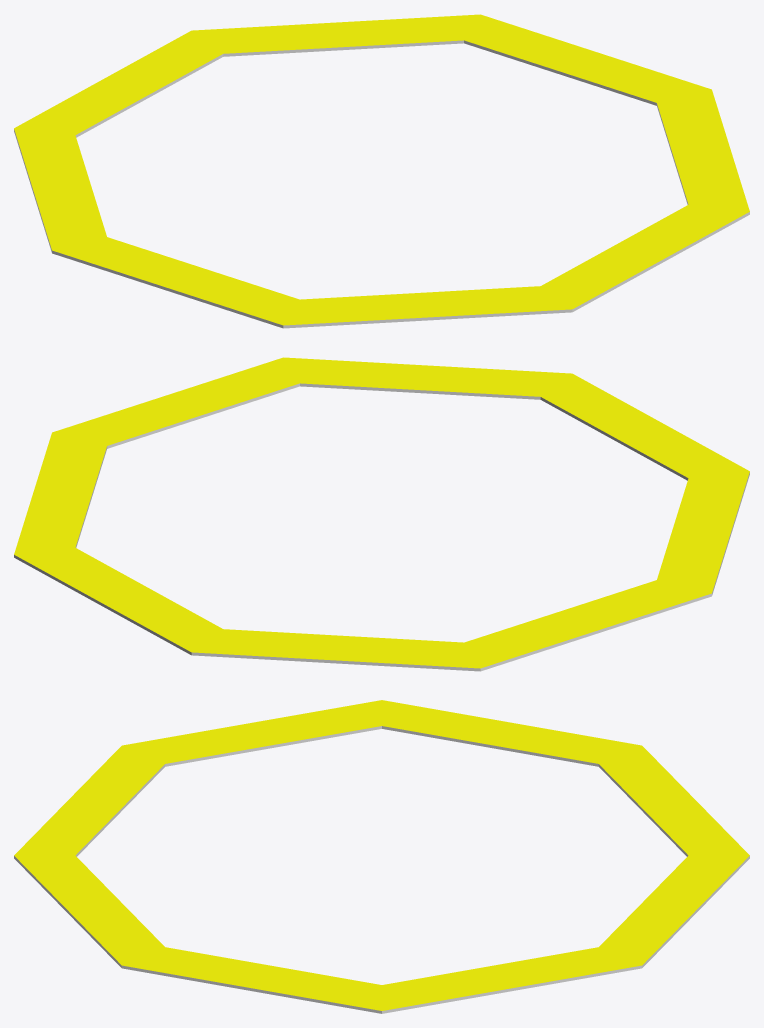
Rendered from vongvang.fbx.
The picture shows the model from 3 angles, top to bottom: view 1: azimuth 30°, elevation 25°; view 2: azimuth 150°, elevation 25°; view 3: azimuth 270°, elevation 25°; orthographic projection. The views are drawn at different scales.
Visible parts, largest first — view 1: Model; view 2: Model; view 3: Model.
Boxes of the visible parts, x1,y1,x2,y2 form: Model: (14, 14, 749, 328); Model: (14, 357, 749, 671); Model: (14, 700, 749, 1013).
Bounding box in the file's own units: 231 × 1 × 231.
